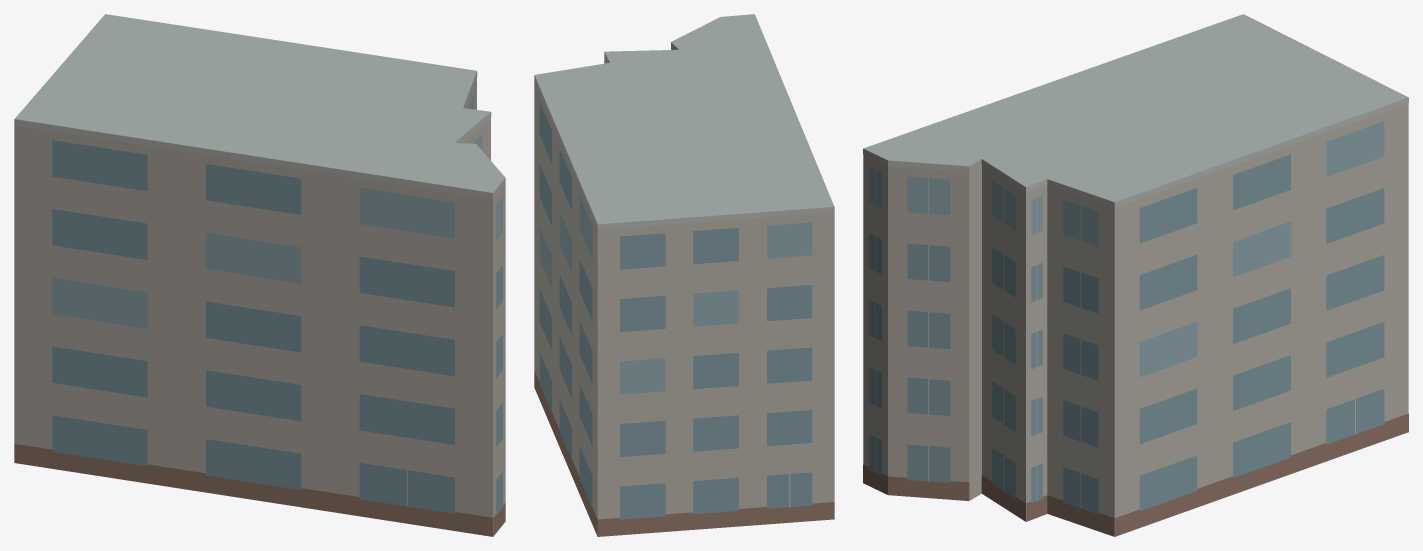
Rendered from survey-upis-32641792.glb.
3 views of the same model, side by side, from view 1: azimuth 30°, elevation 25°; view 2: azimuth 150°, elevation 25°; view 3: azimuth 270°, elevation 25° (orthographic). The views are drawn at different scales.
Parts seen in each view (by area): view 1: survey-upis-32641792.tmp; view 2: survey-upis-32641792.tmp; view 3: survey-upis-32641792.tmp.
Part boxes in pixels (<box>): survey-upis-32641792.tmp: <box>14,14,505,536</box>; survey-upis-32641792.tmp: <box>534,14,834,536</box>; survey-upis-32641792.tmp: <box>863,14,1408,536</box>.
Size of the model in its own units: 17.26 by 14.3 by 21.14.
